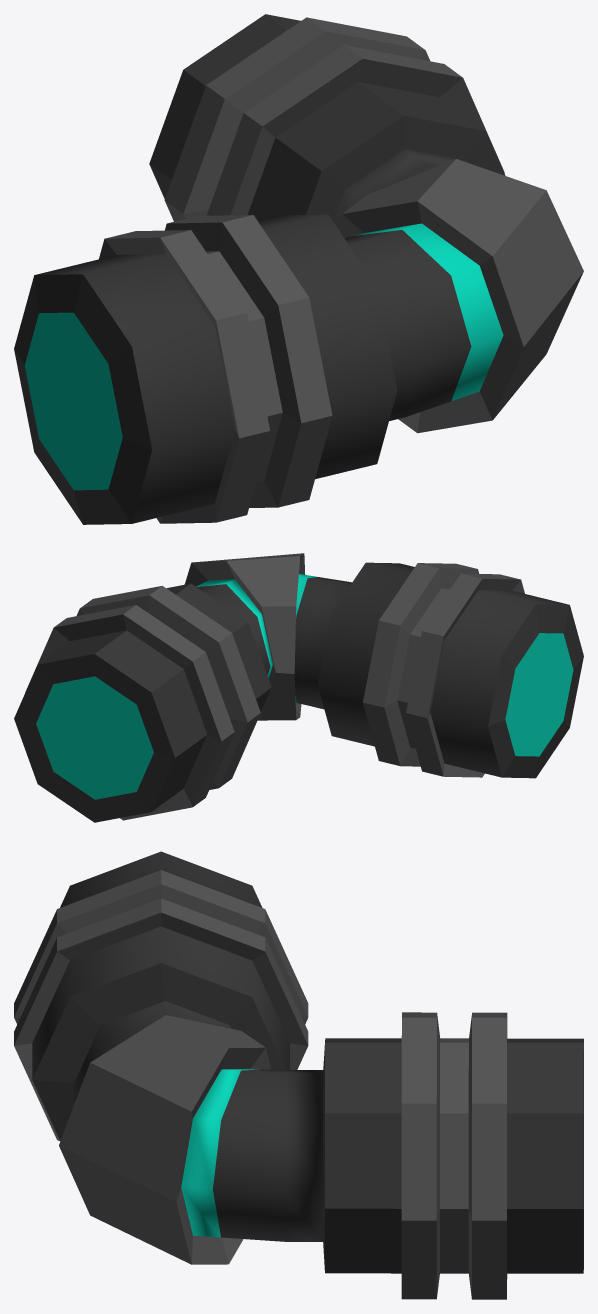
The model's file is Pipe_Curve.fbx.
The picture shows the model from 3 angles, top to bottom: view 1: azimuth 30°, elevation 25°; view 2: azimuth 150°, elevation 25°; view 3: azimuth 270°, elevation 25°; orthographic projection. The views are drawn at different scales.
Parts seen in each view (by area): view 1: Pipe Curve; view 2: Pipe Curve; view 3: Pipe Curve.
Boxes of the visible parts, <box> form: Pipe Curve: <box>14,14,583,524</box>; Pipe Curve: <box>14,553,583,822</box>; Pipe Curve: <box>14,851,583,1299</box>.
Size of the model in its own units: 682 by 347 by 647.
